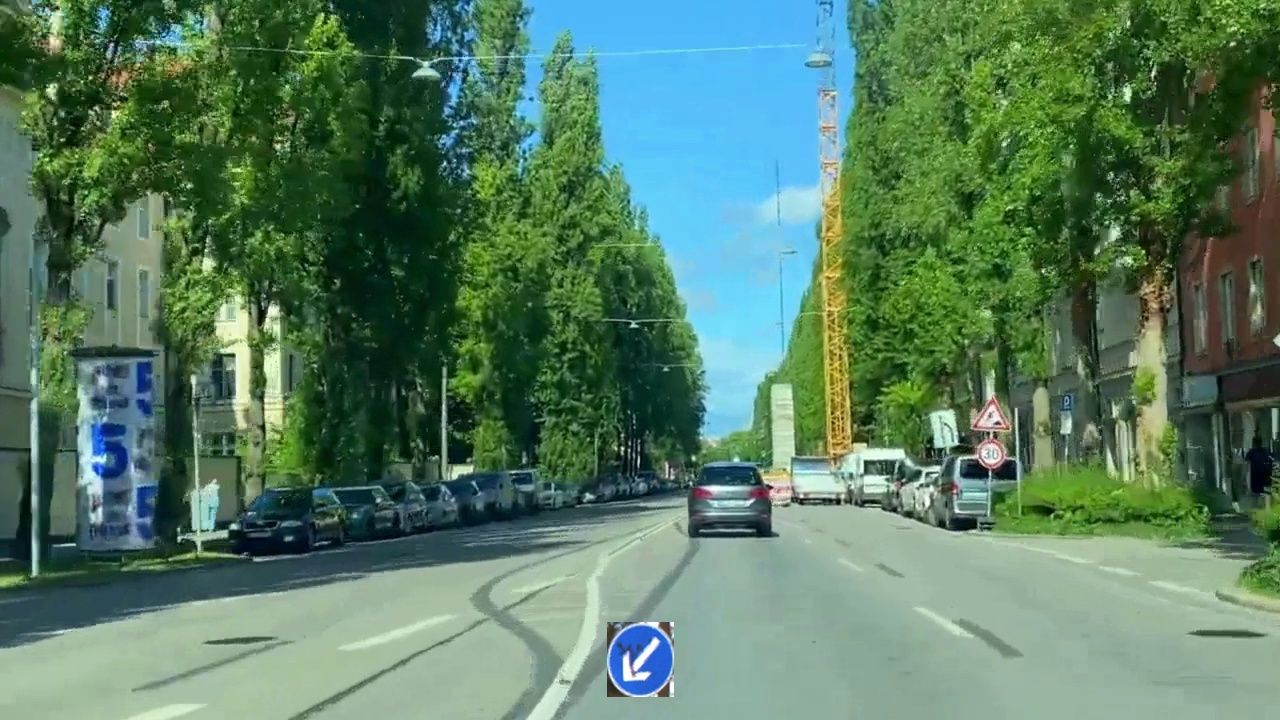Keep left: (607, 622, 674, 697)
